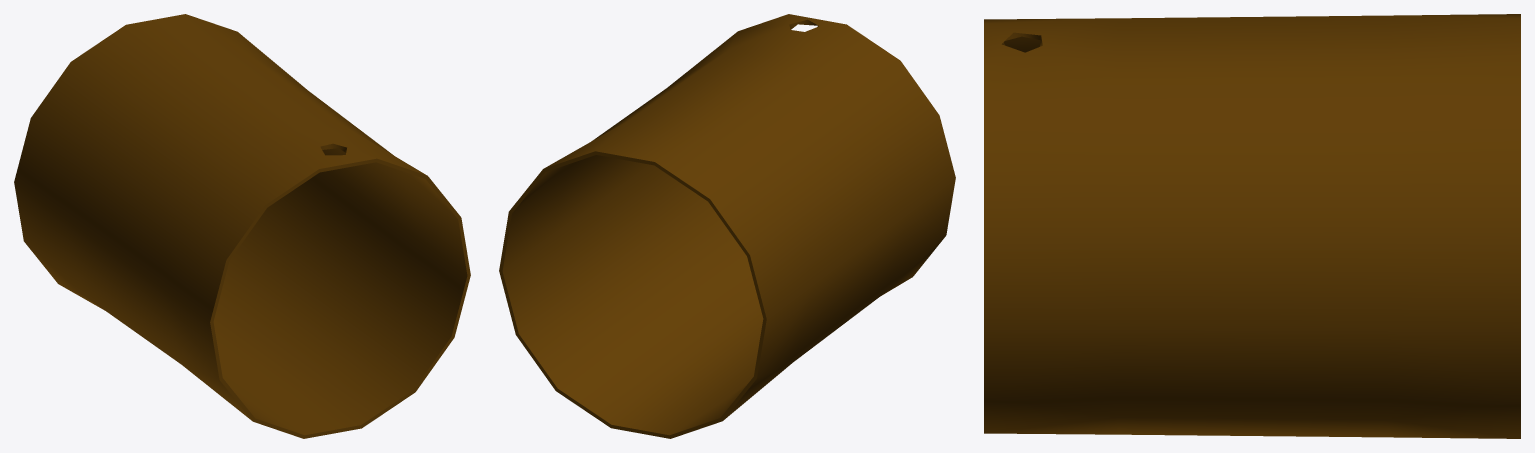
The model's file is Cylindre barillet_Quarts.obj.
The picture shows the model from 3 angles, left to right: view 1: azimuth 30°, elevation 25°; view 2: azimuth 150°, elevation 25°; view 3: azimuth 270°, elevation 25°; orthographic projection. The views are drawn at different scales.
Visible parts, largest first — view 1: Face_2, Face_1, Face_4; view 2: Face_2, Face_1, Face_3; view 3: Face_2.
Part boxes in pixels (box(x1,y1,x2,y2)): Face_2: box(14, 14, 427, 421); Face_1: box(213, 148, 467, 435); Face_4: box(210, 158, 470, 438); Face_2: box(544, 14, 955, 420); Face_1: box(502, 155, 763, 435); Face_3: box(499, 151, 766, 438); Face_2: box(984, 14, 1520, 438).
Size of the model in its own units: 0.0389 by 0.0385 by 0.0485.
